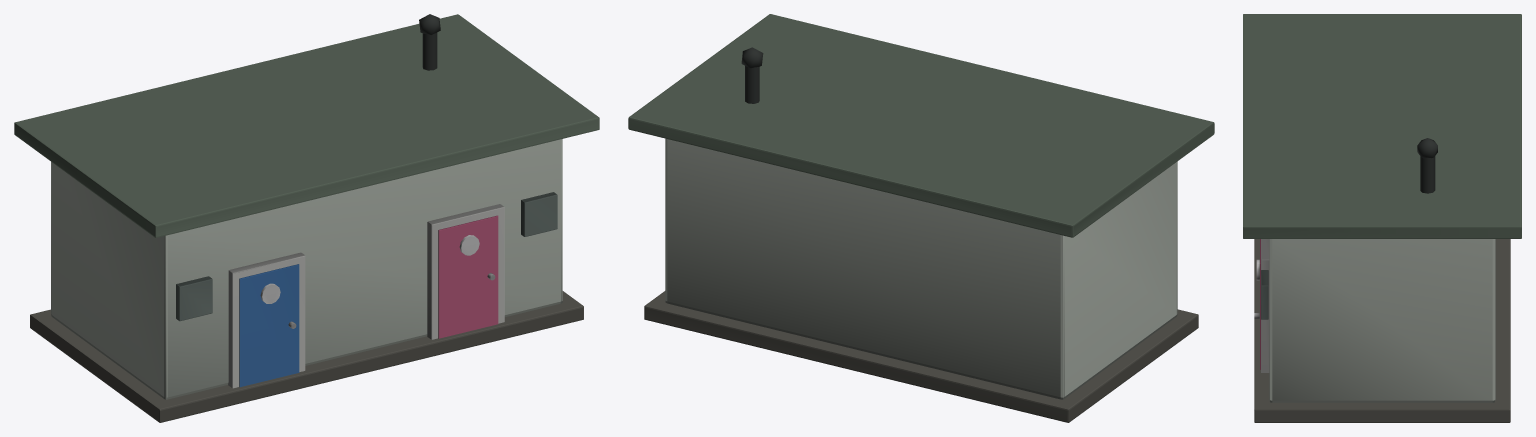
Rendered from toilets.glb.
The picture shows the model from 3 angles, left to right: view 1: azimuth 30°, elevation 25°; view 2: azimuth 150°, elevation 25°; view 3: azimuth 270°, elevation 25°; orthographic projection.
Visible parts, largest first — view 1: toilets; view 2: toilets; view 3: toilets.
Part boxes in pixels (x1,y1,x2,y2): toilets: [14, 14, 599, 422]; toilets: [628, 14, 1214, 422]; toilets: [1243, 14, 1521, 422].
Bounding box in the file's own units: 6.7 × 3.71 × 3.7.
